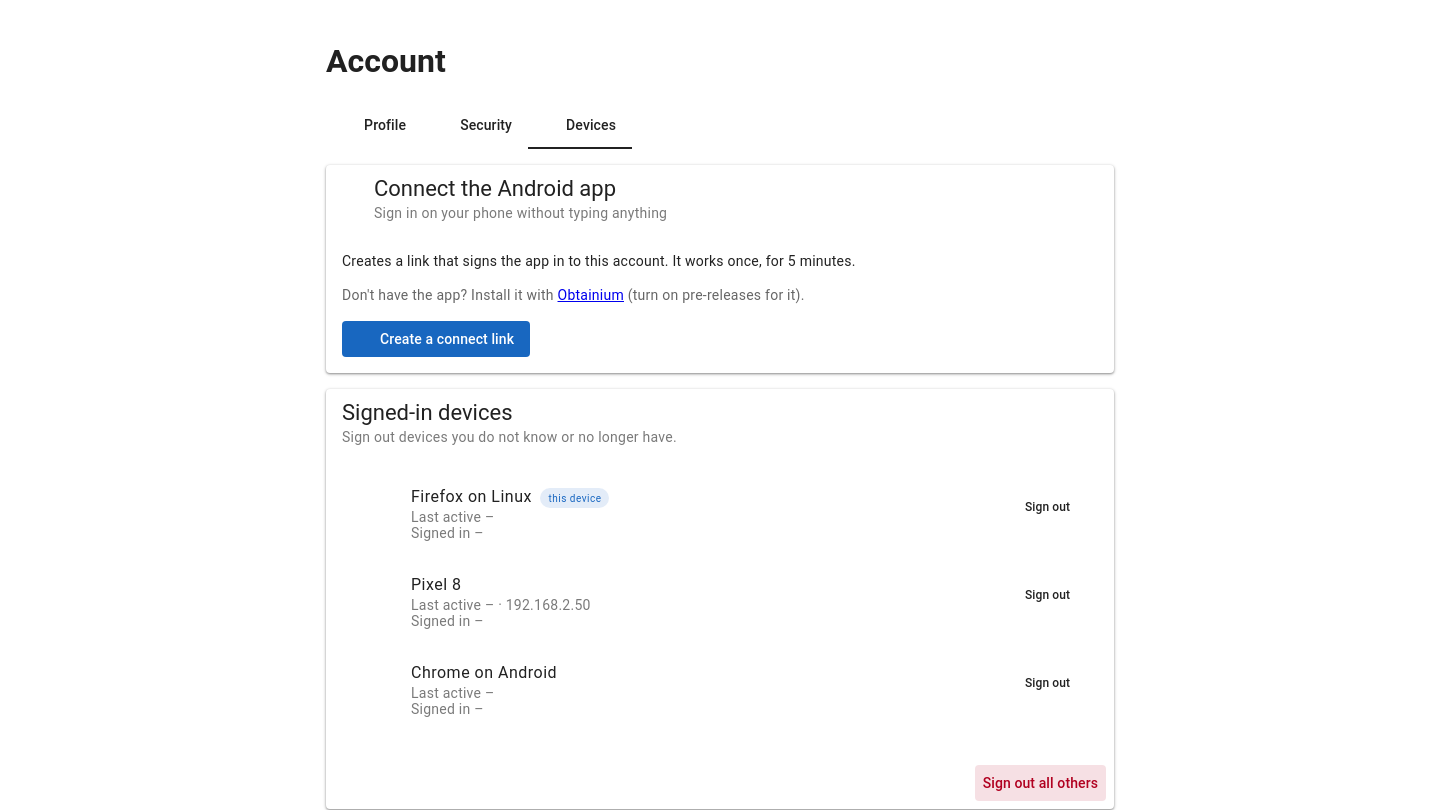
Scenario: AccountView › signs out other devices
Expected: the list item with test id "session-current" shows "this device", [548,493,601,504]
Click the button with aria-label "Sign out Pixel 8" at point(1038, 595), box [994,581,1082,609]
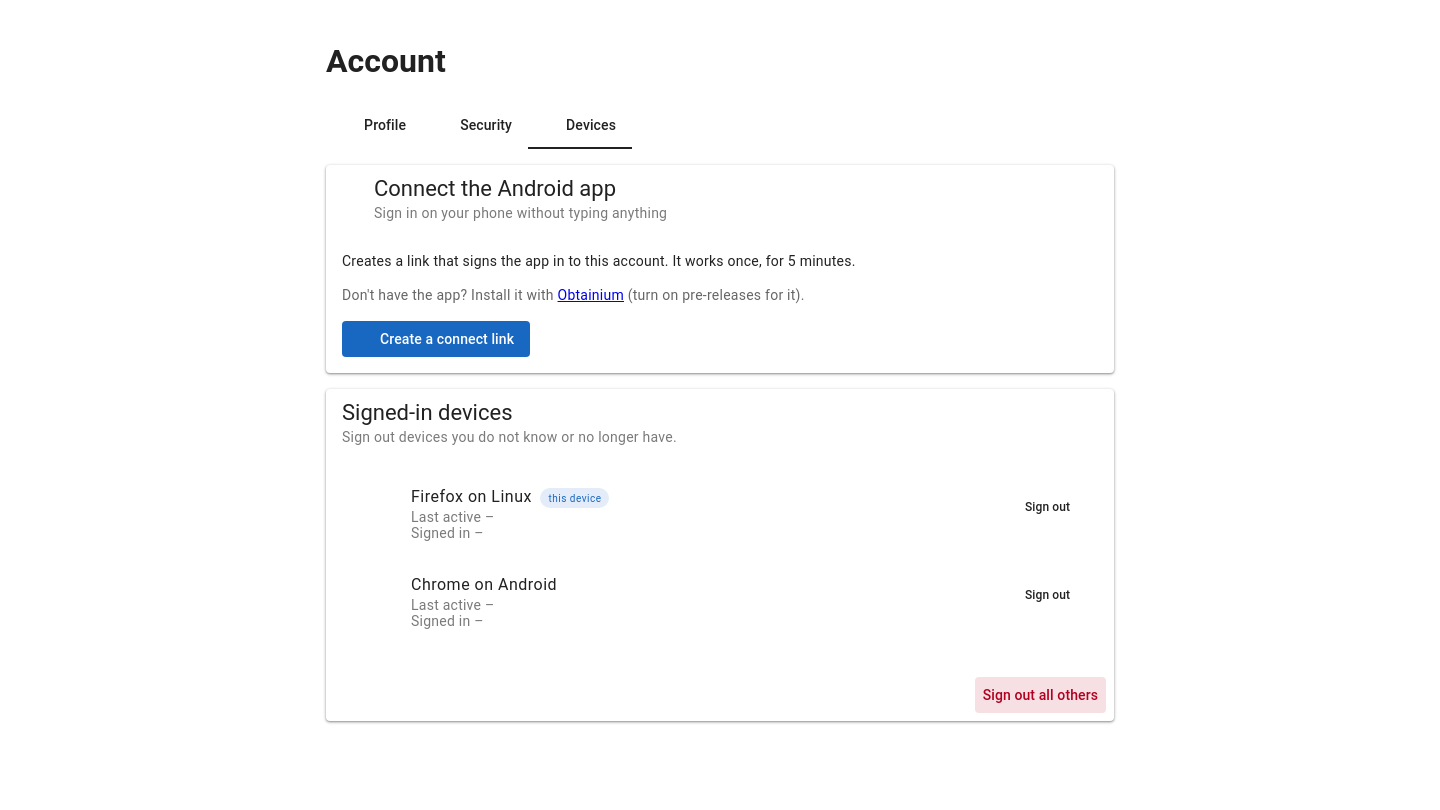
Click the button with test id "revoke-others" at point(1040, 695), box [974,677,1106,713]
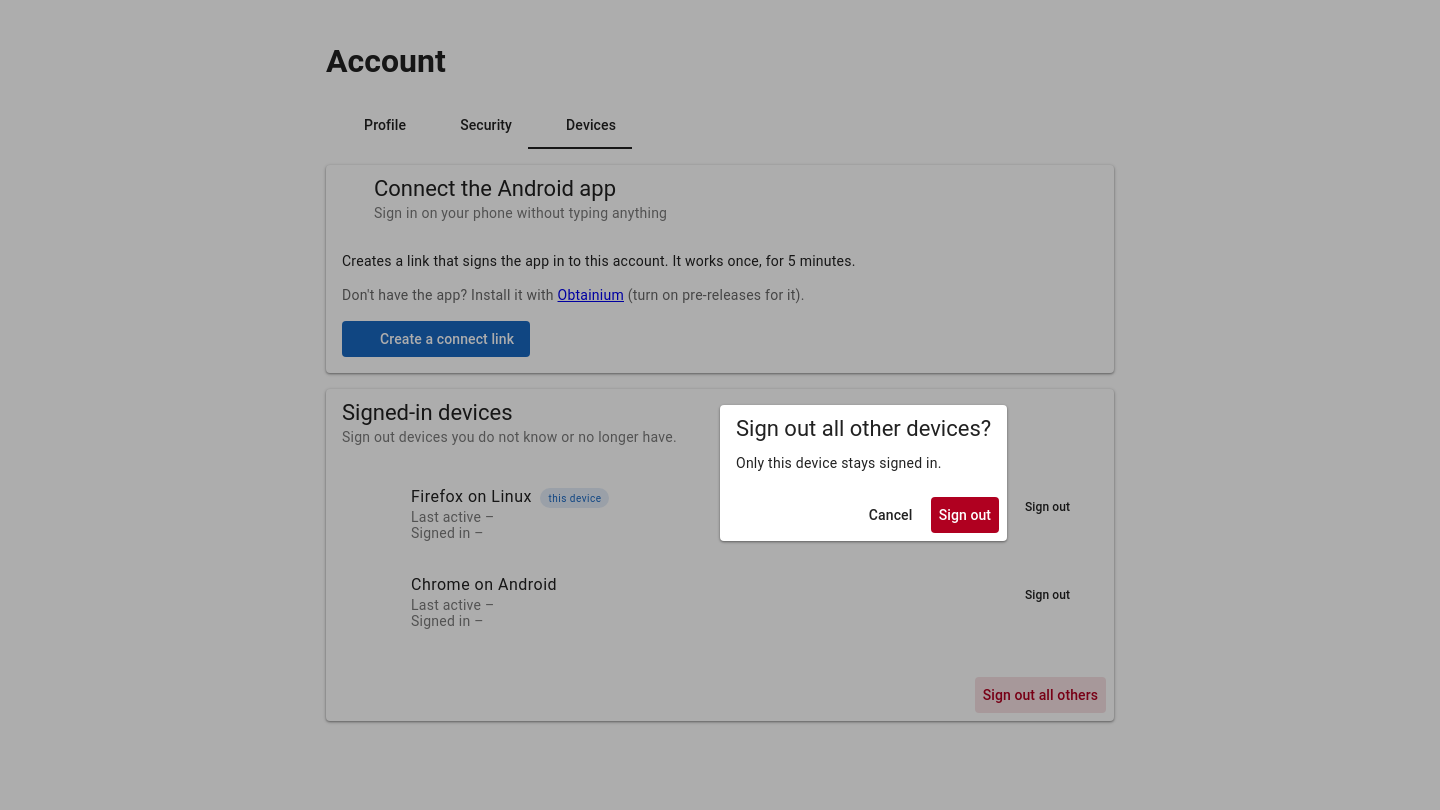
Click the button "Sign out" at point(965, 515), box [931,497,999,533]
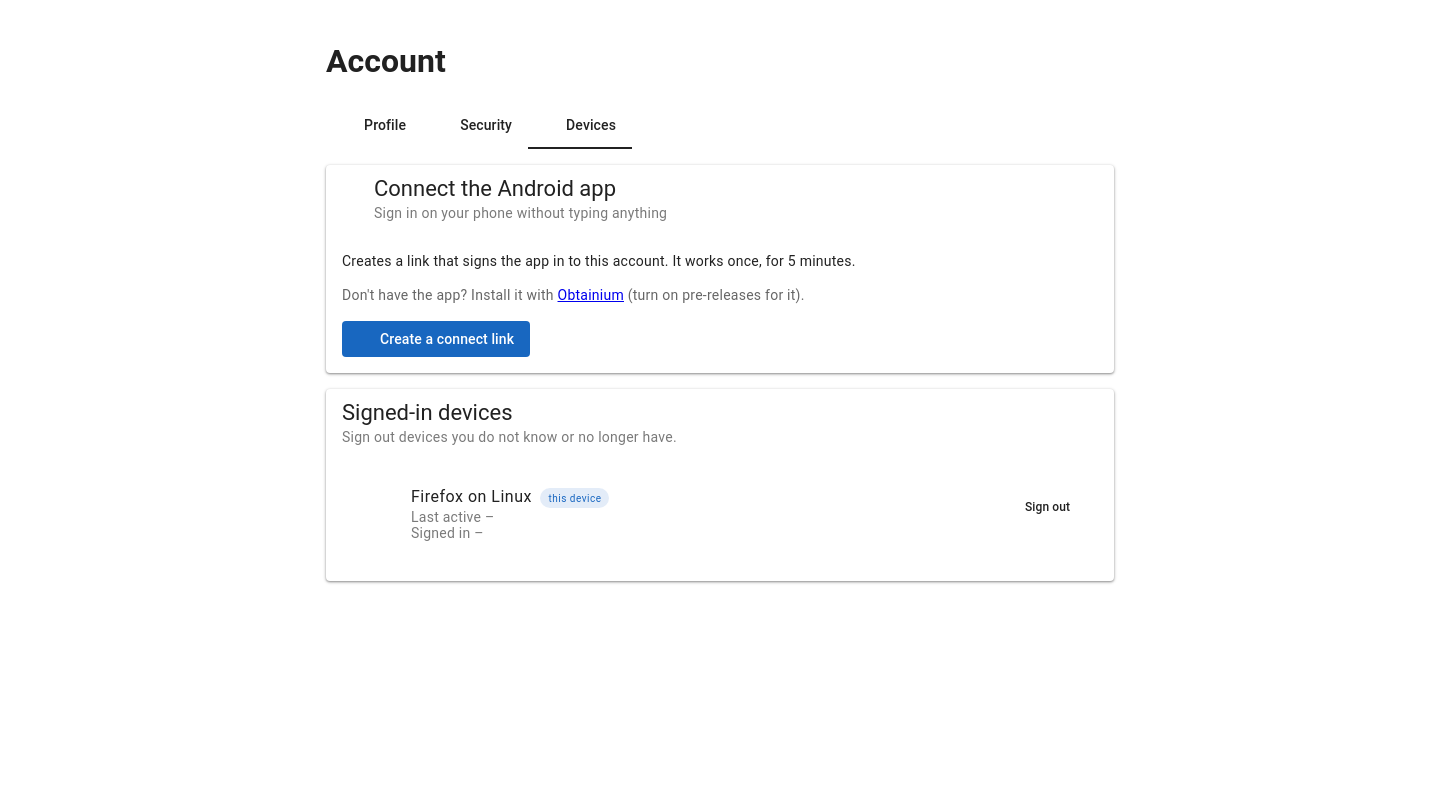
Expected: no list items with test id "session-other" are shown
